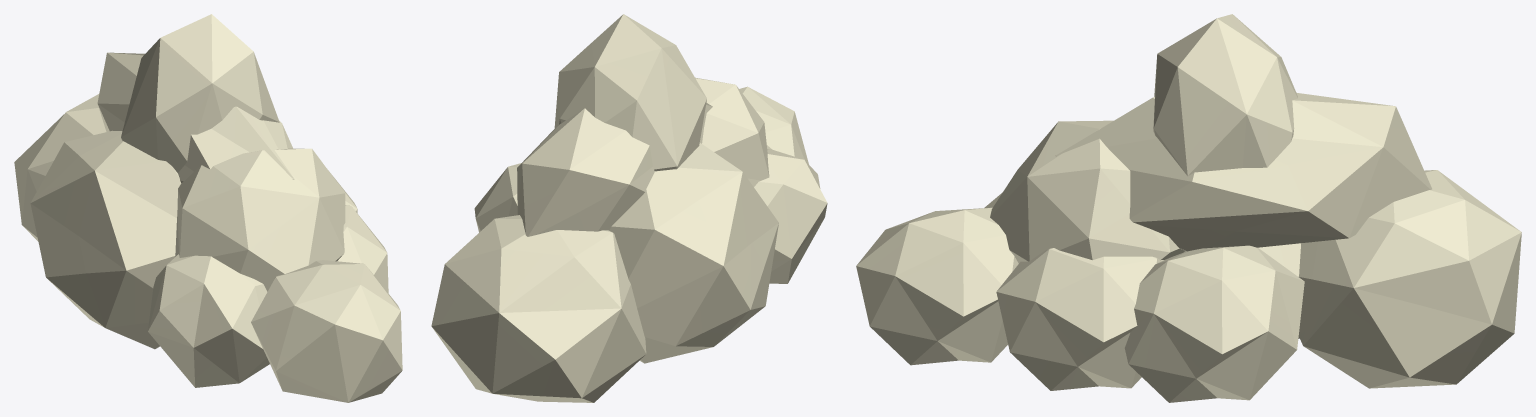
File: cloud_2.FBX
The picture shows the model from 3 angles, left to right: view 1: azimuth 30°, elevation 25°; view 2: azimuth 150°, elevation 25°; view 3: azimuth 270°, elevation 25°; orthographic projection. The views are drawn at different scales.
Visible parts, largest first — view 1: cloud_2; view 2: cloud_2; view 3: cloud_2.
Part boxes in pixels (x1,y1,x2,y2): cloud_2: (14, 14, 402, 402); cloud_2: (431, 14, 827, 402); cloud_2: (856, 14, 1521, 402).
Size of the model in its own units: 414 by 435 by 725.
